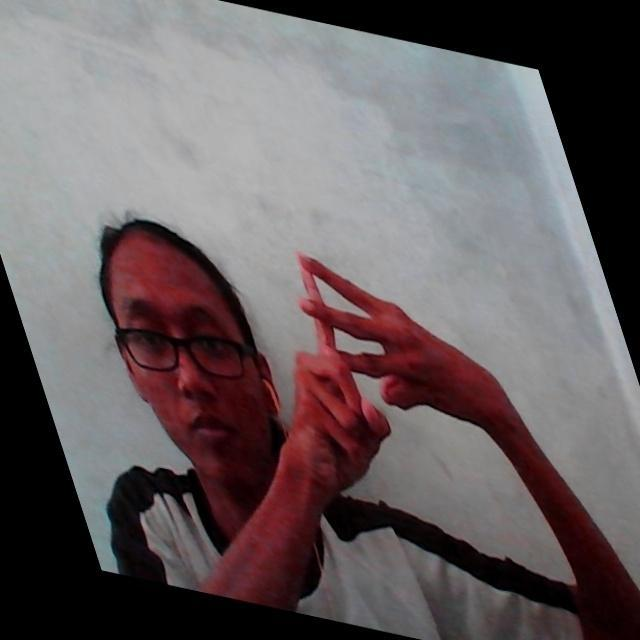B: (278, 245, 420, 471)
